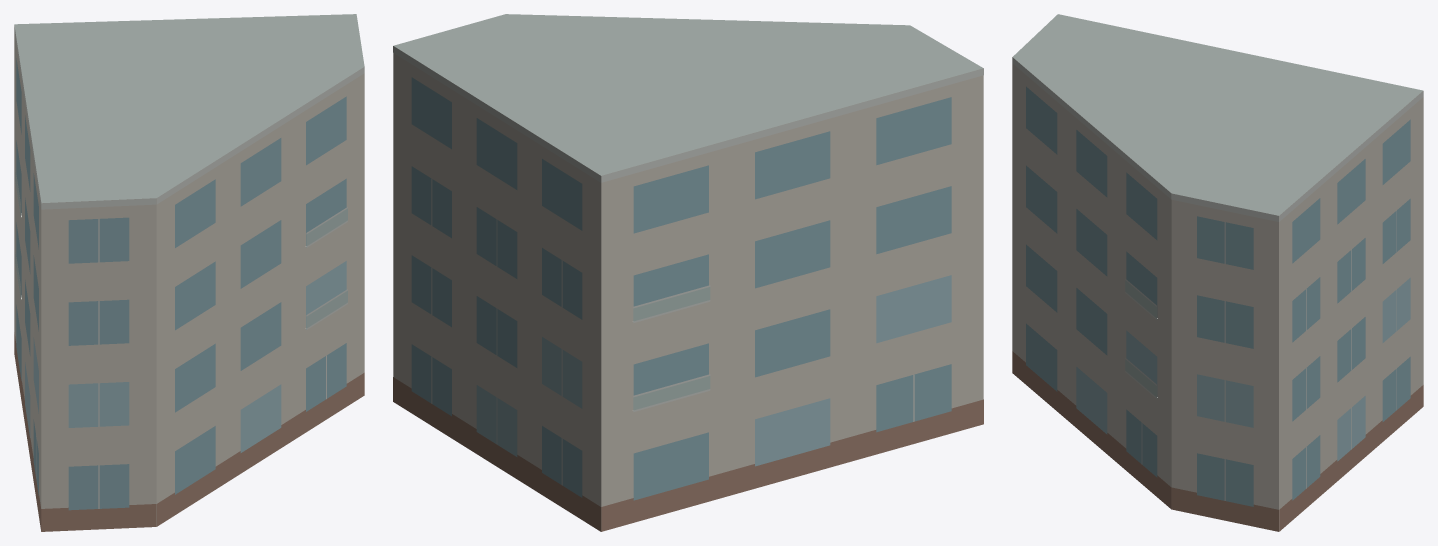
The model's file is survey-upis-33013013.glb.
The picture shows the model from 3 angles, left to right: view 1: azimuth 30°, elevation 25°; view 2: azimuth 150°, elevation 25°; view 3: azimuth 270°, elevation 25°; orthographic projection. The views are drawn at different scales.
Visible parts, largest first — view 1: survey-upis-33013013.tmp; view 2: survey-upis-33013013.tmp; view 3: survey-upis-33013013.tmp.
Part boxes in pixels (box(x1,y1,x2,y2)): survey-upis-33013013.tmp: box(14, 14, 364, 531); survey-upis-33013013.tmp: box(393, 14, 983, 531); survey-upis-33013013.tmp: box(1012, 14, 1423, 531).
Size of the model in its own units: 17 by 12.4 by 14.63.
